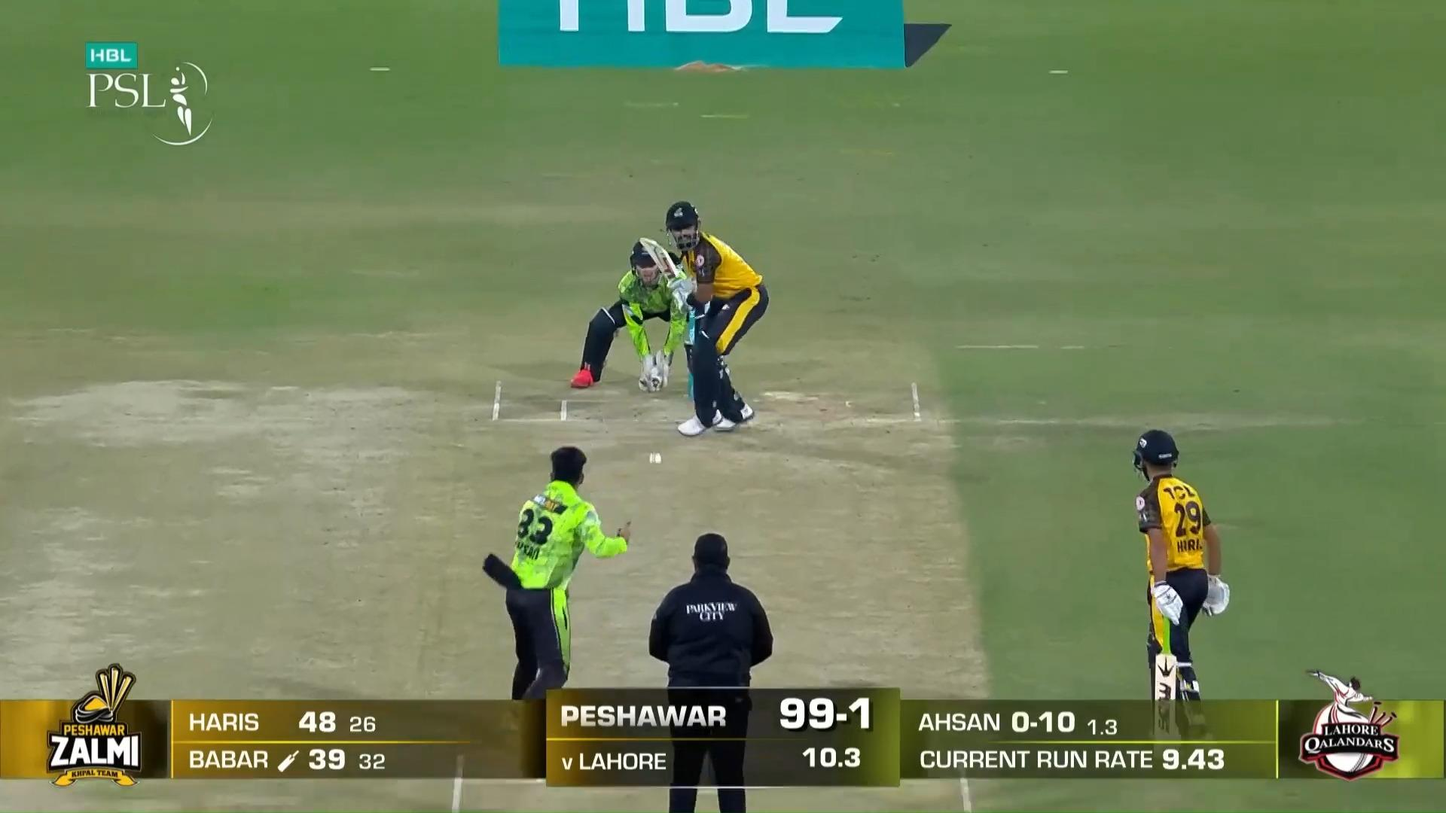batsman: (639, 199, 769, 436)
